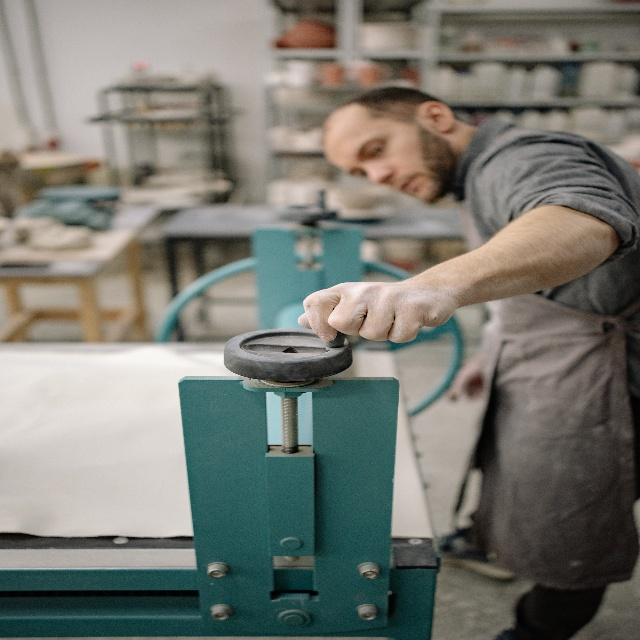Sin_guantes: (297, 270, 458, 343)
